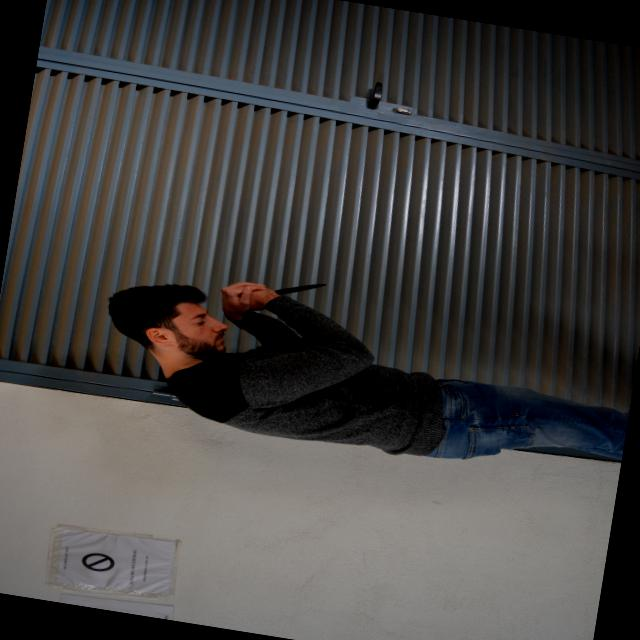knife: (260, 270, 334, 307)
